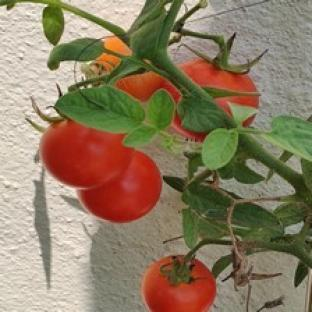Tomato: (39, 120, 133, 188), (77, 151, 161, 222), (143, 257, 215, 311), (180, 59, 257, 91), (116, 73, 162, 101)
